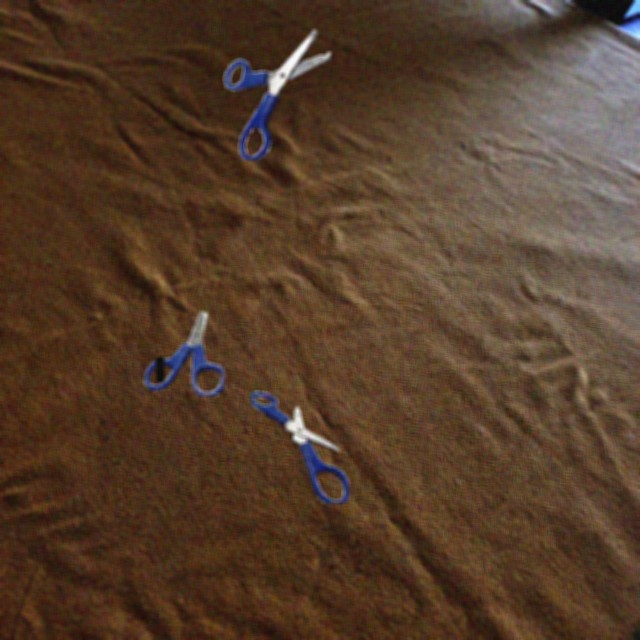scissors: (224, 30, 331, 160), (251, 391, 349, 503), (143, 311, 224, 396)
